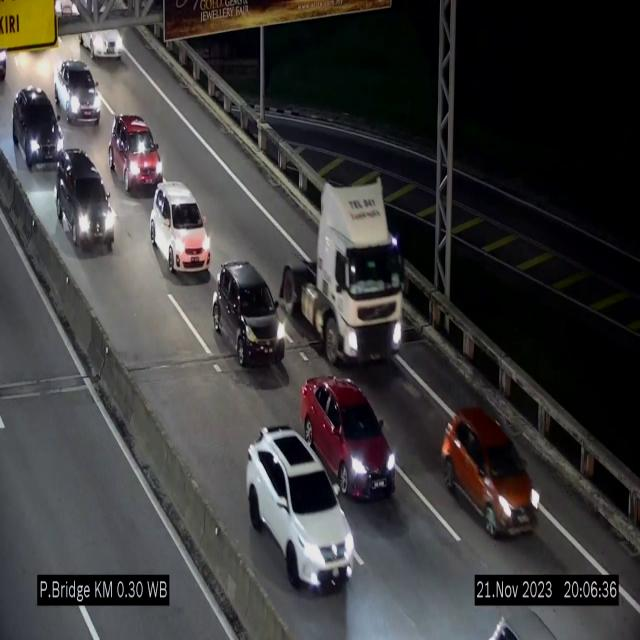Car: (246, 426, 354, 588), (440, 406, 543, 536), (301, 374, 397, 499), (204, 256, 286, 374), (54, 150, 118, 262), (151, 180, 210, 276), (107, 114, 167, 204), (12, 84, 64, 164), (56, 60, 104, 126)
Truck: (288, 177, 408, 387)
